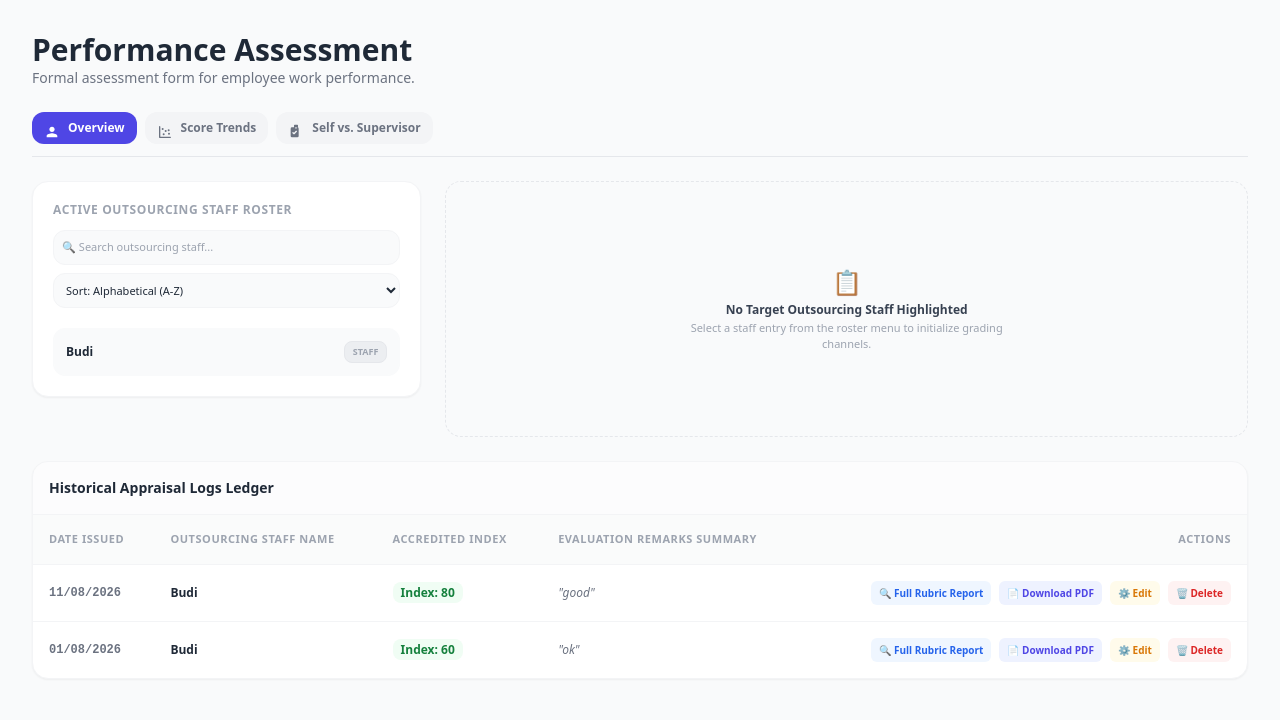
Test: PerformanceReviewView › the Score Trends tab ranks employees by their average historical score
This screenshot has width=1280, height=720.
Click the tab "Score Trends": {"x": 206, "y": 128} [144,112,268,144]
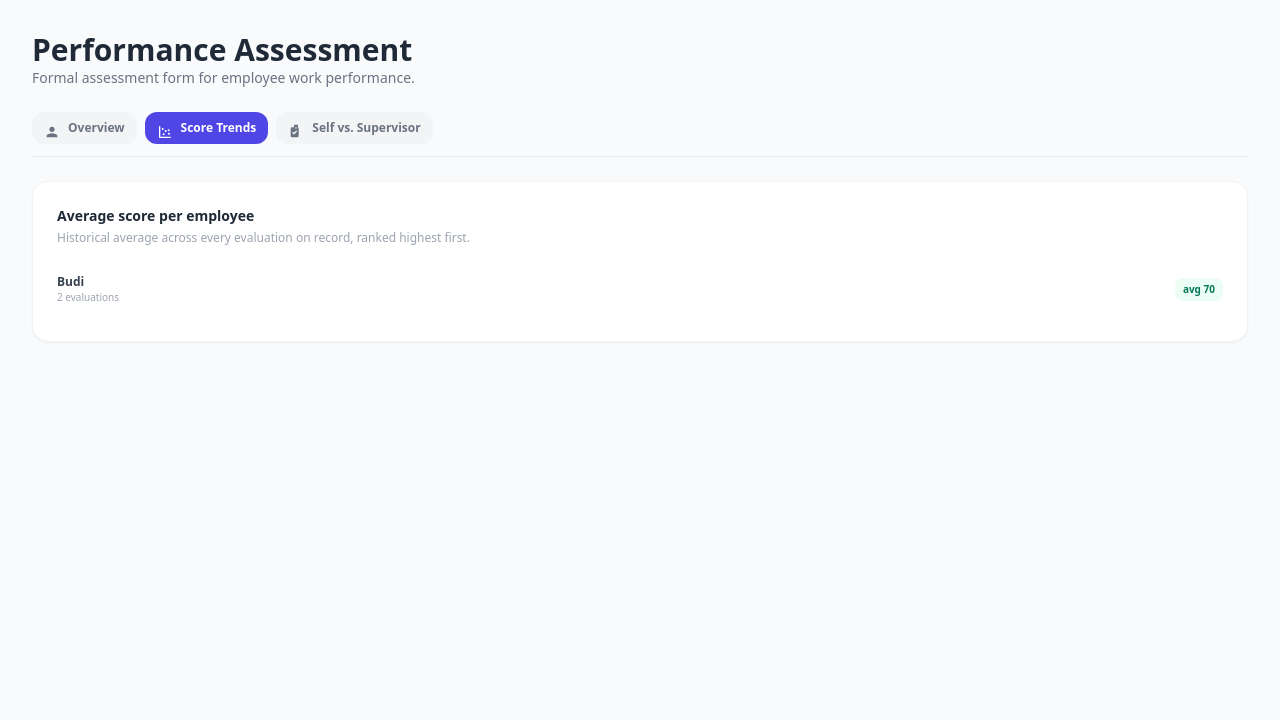
Expected: the text "Budi" is shown, [57,273,84,290]
Now the text "2 evaluations" is shown, box [57,290,119,305]
Now the text "avg 70" is shown, box [1175,278,1223,301]
